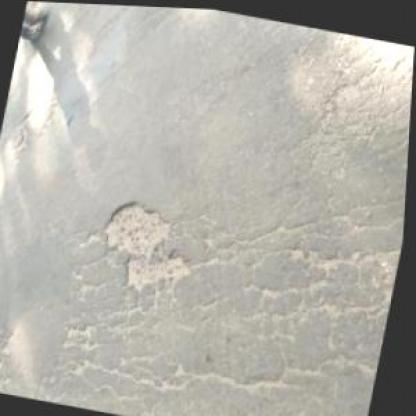pothole: (93, 194, 207, 301)
